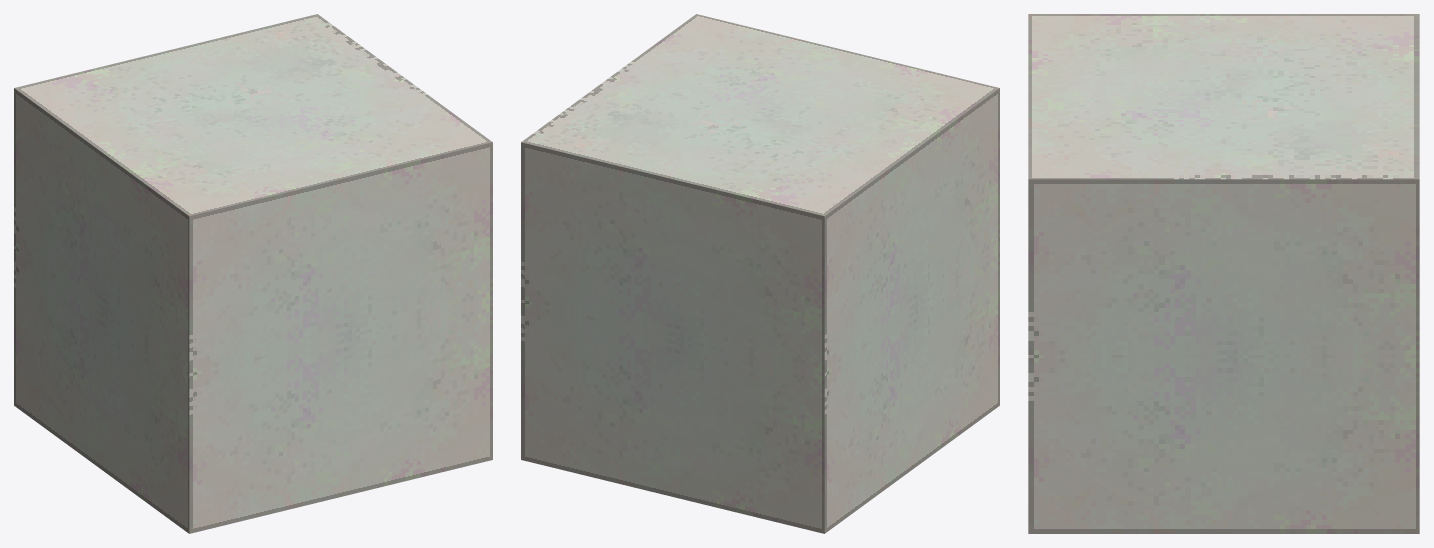
The model's file is Concrete1.glb.
3 renders of one model, left to right at view 1: azimuth 30°, elevation 25°; view 2: azimuth 150°, elevation 25°; view 3: azimuth 270°, elevation 25°, orthographic. The views are drawn at different scales.
Parts seen in each view (by area): view 1: Cube.029; view 2: Cube.029; view 3: Cube.029.
Part boxes in pixels (x1,y1,x2,y2): Cube.029: (14, 14, 492, 533); Cube.029: (521, 14, 999, 533); Cube.029: (1028, 14, 1419, 533).
Size of the model in its own units: 8 by 8 by 8.
1 material, 1 textured.
